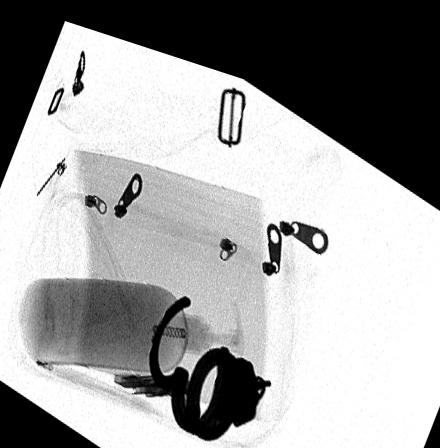HandCuffs: (149, 282, 271, 427)
